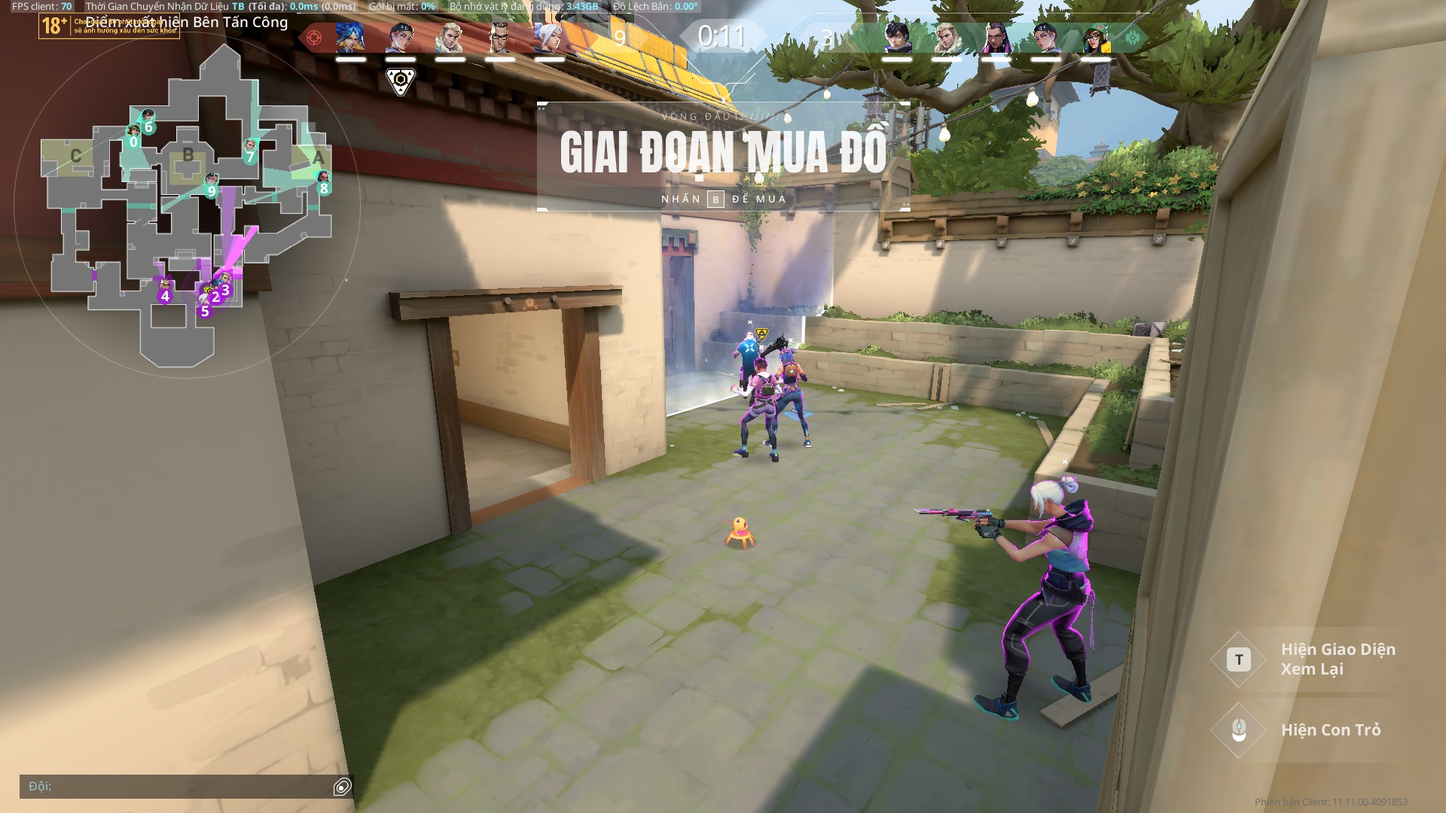body: (1039, 513, 1088, 573), (752, 374, 776, 400), (779, 364, 804, 387), (739, 342, 759, 364)
head: (1027, 482, 1066, 519), (779, 349, 794, 363), (753, 358, 767, 372), (746, 331, 756, 340)
